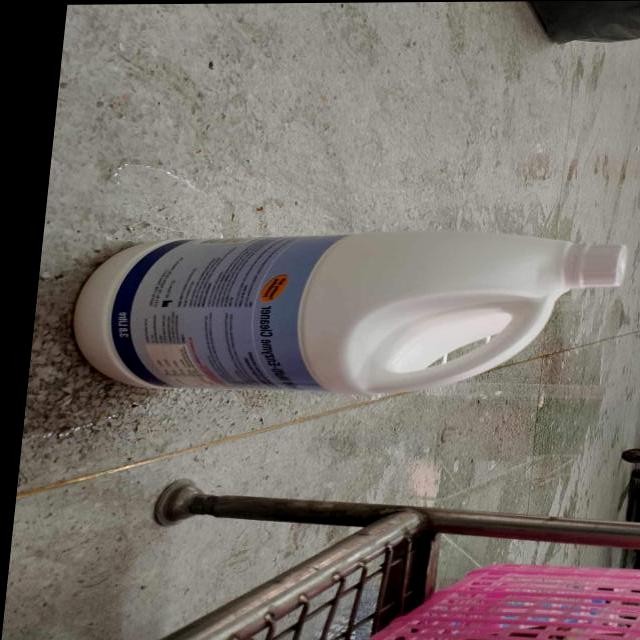General: (132, 478, 640, 640)
Infectious: (72, 230, 628, 398)
Sharps: (16, 324, 640, 504)
